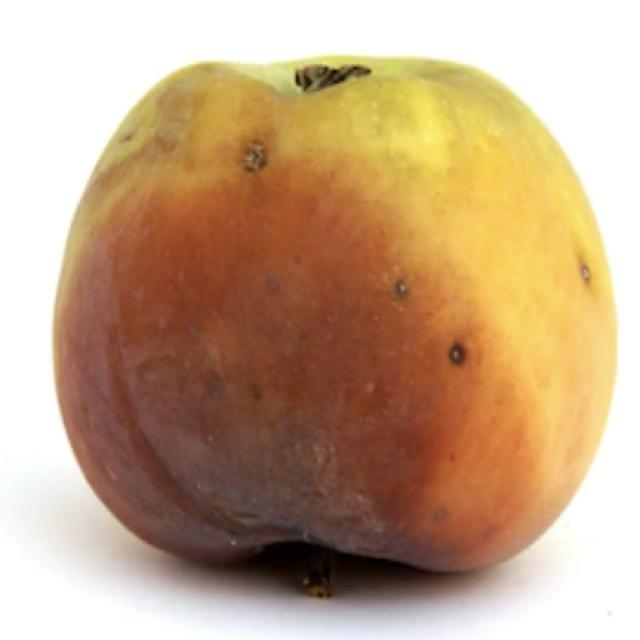Rotten: (45, 50, 620, 585)
